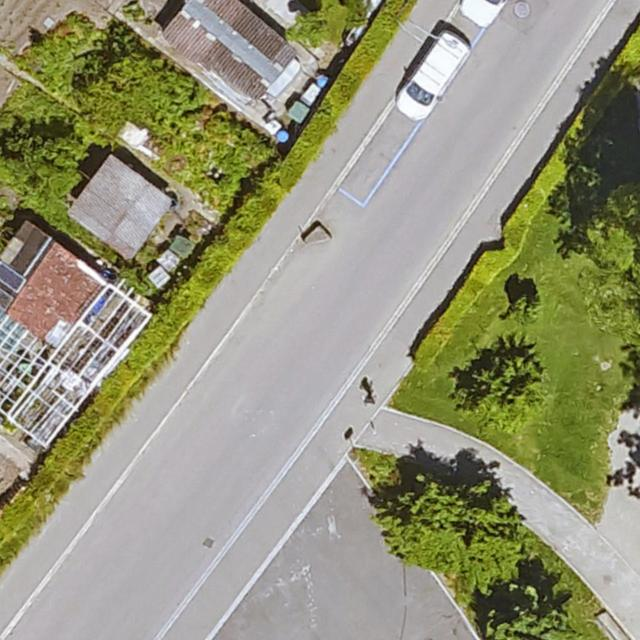tree: (377, 468, 465, 567), (451, 493, 519, 600), (459, 347, 548, 426), (577, 180, 640, 282), (475, 582, 565, 640), (510, 291, 543, 322)
